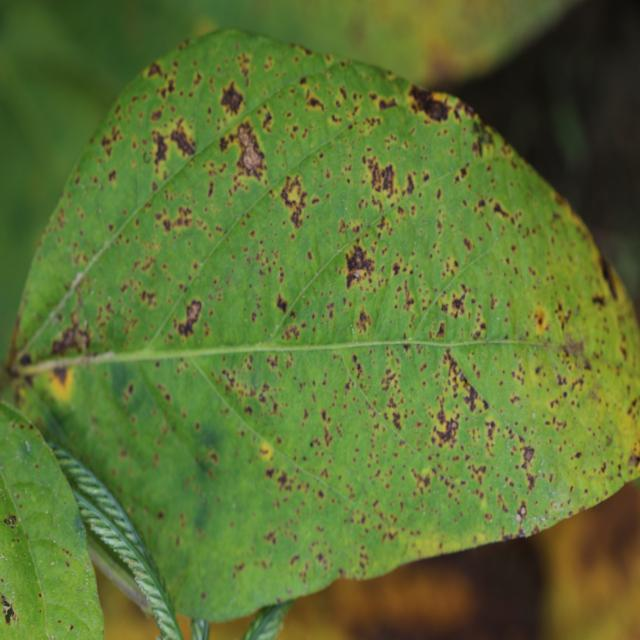Bacterial_Blight: (360, 145, 420, 218), (219, 357, 286, 416), (336, 223, 385, 297), (439, 349, 486, 423), (49, 309, 91, 361), (232, 122, 266, 176), (279, 173, 310, 227), (437, 282, 475, 325), (192, 419, 224, 469), (408, 84, 452, 120), (377, 385, 409, 434), (157, 203, 197, 235), (517, 443, 540, 495), (598, 252, 622, 301), (169, 119, 196, 159), (178, 298, 202, 337), (99, 122, 124, 158), (220, 80, 245, 114), (301, 82, 328, 113), (561, 334, 588, 361), (473, 121, 495, 154), (434, 416, 459, 445), (151, 130, 169, 168), (411, 469, 432, 495), (380, 365, 399, 393), (50, 364, 71, 389), (467, 462, 487, 488), (353, 308, 372, 335), (350, 354, 367, 383), (491, 200, 513, 221), (532, 306, 548, 333), (402, 281, 415, 312), (274, 469, 292, 491), (139, 288, 157, 308), (376, 95, 398, 111), (521, 444, 536, 466), (239, 128, 254, 150), (146, 62, 164, 80), (585, 385, 603, 403), (156, 383, 171, 404), (321, 424, 334, 448), (283, 324, 300, 342), (626, 397, 639, 419), (275, 293, 288, 314), (591, 292, 607, 308), (261, 108, 273, 129), (18, 352, 33, 368), (263, 529, 277, 545), (315, 551, 327, 569), (516, 500, 527, 519), (627, 453, 639, 470), (150, 107, 163, 122), (124, 382, 135, 399), (463, 237, 473, 252), (289, 554, 300, 567), (108, 168, 117, 183), (265, 466, 275, 479), (162, 218, 171, 232), (207, 180, 214, 198), (321, 409, 329, 422), (157, 509, 165, 520), (194, 422, 201, 432)
Soybean: (8, 31, 640, 622)
